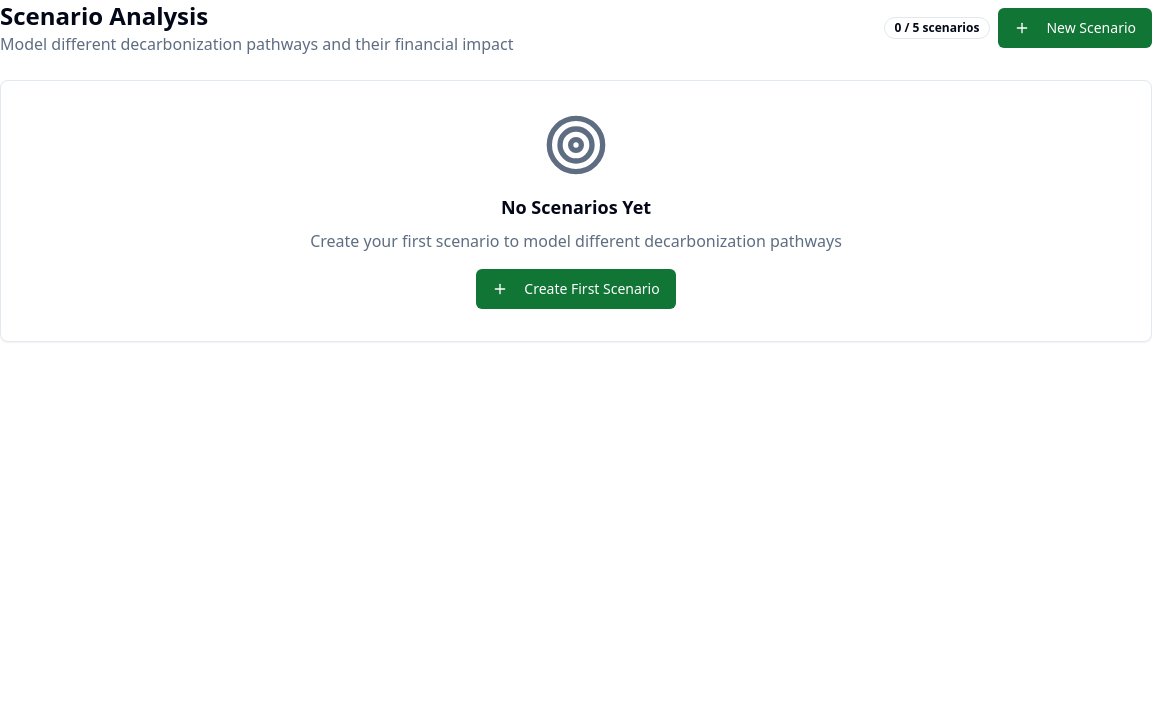
ESGScenarioAnalysis › computes and persists projected results matching the projection formula
Click the button "New Scenario" at (1075, 28), box [998,8,1151,48]
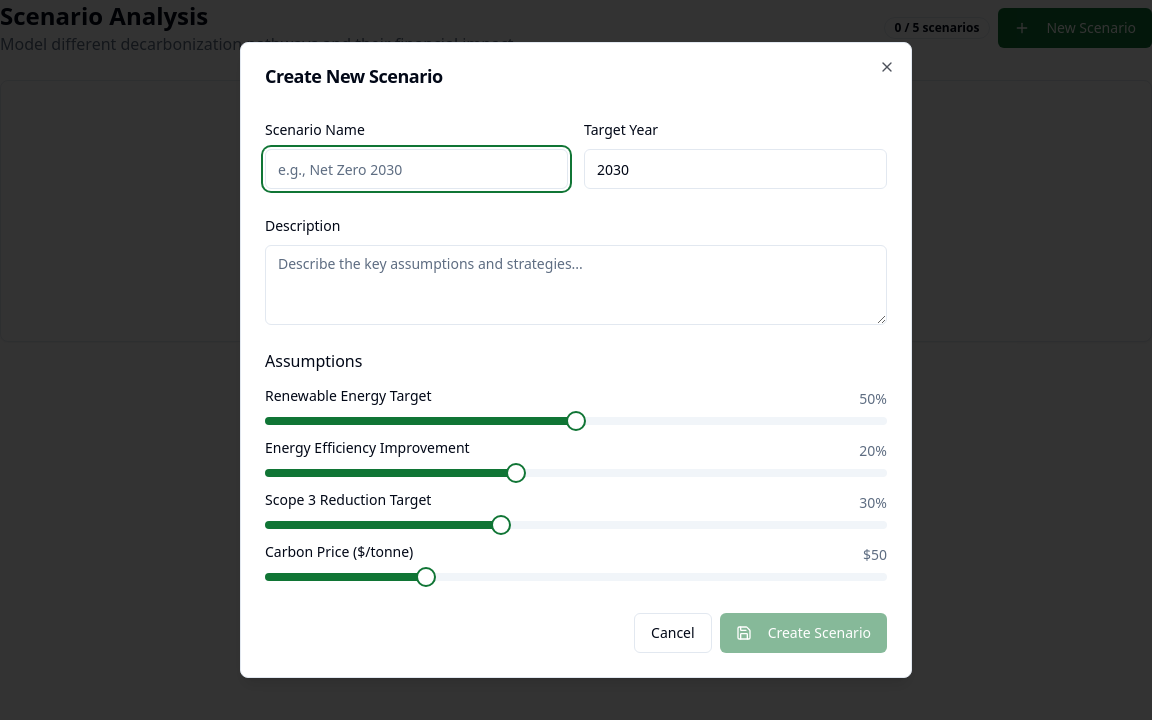
Type "Net Zero 2030" into the field with placeholder "e.g., Net Zero 2030" at (416, 169), box [265,149,568,189]
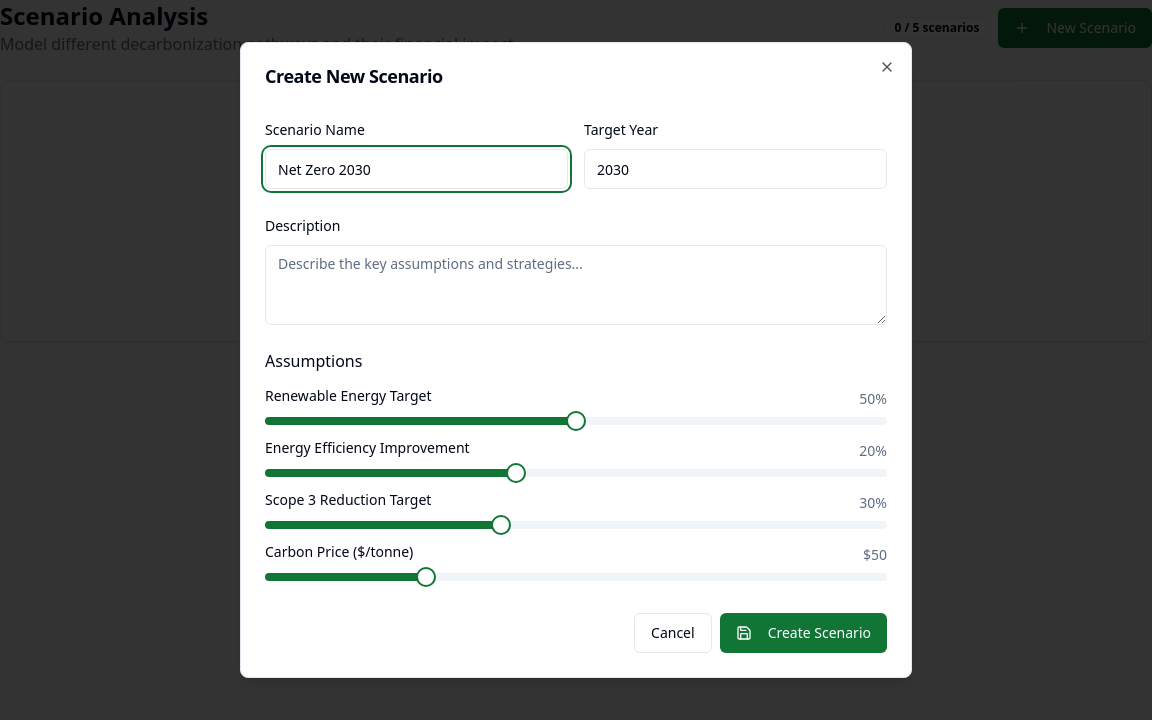
Click the button "Create Scenario" at (803, 633), box [720,613,887,653]
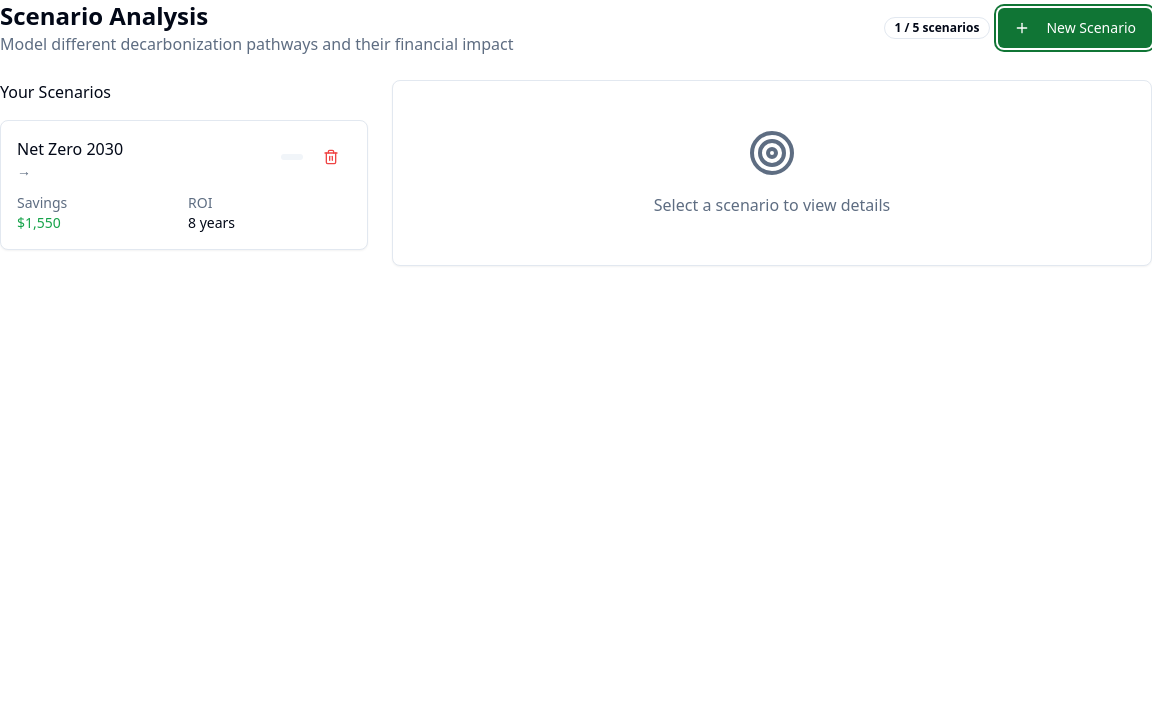
Result: the heading "Net Zero 2030" is shown at [17,137,123,161]
